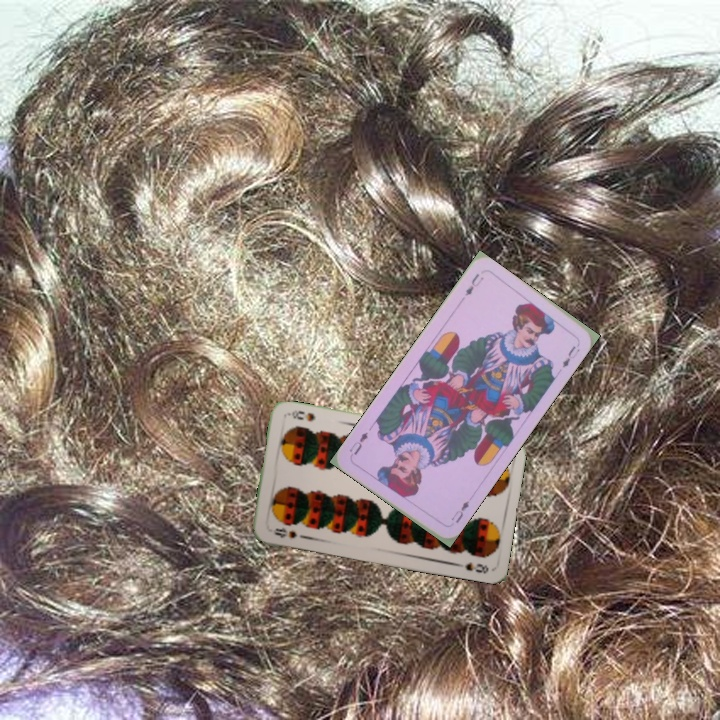EU: (461, 269, 486, 299), (447, 497, 472, 525)
S8: (270, 524, 299, 541)
